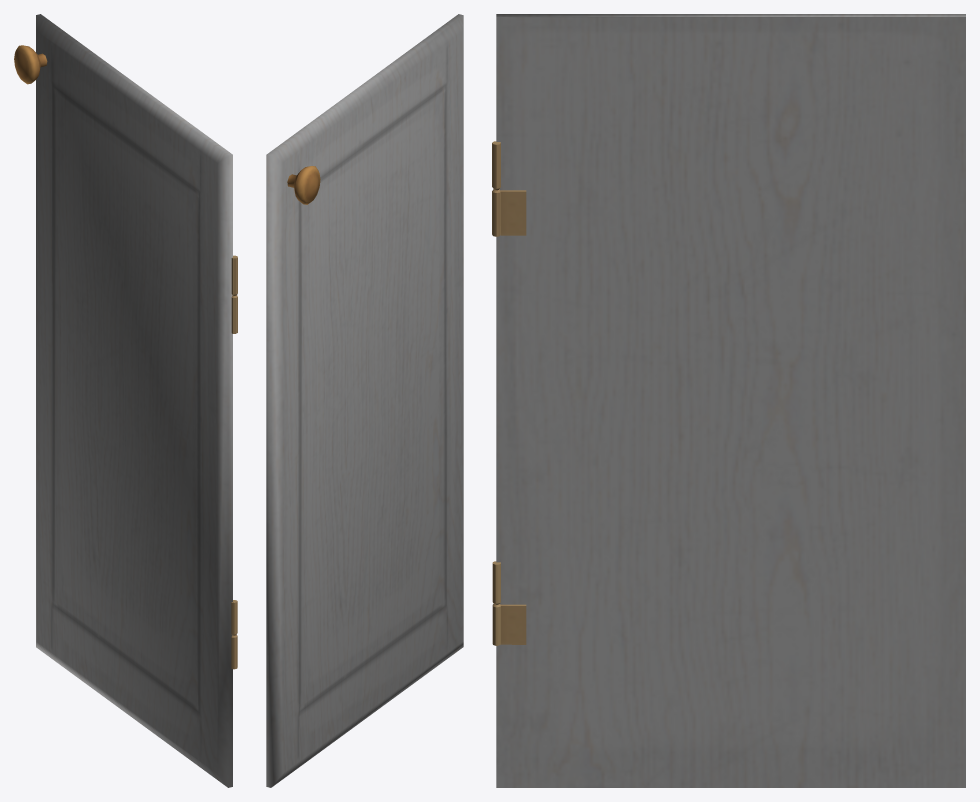
The model's file is SM_KitchenSet_A1_DoorA4.fbx.
The picture shows the model from 3 angles, left to right: view 1: azimuth 30°, elevation 25°; view 2: azimuth 150°, elevation 25°; view 3: azimuth 270°, elevation 25°; orthographic projection. The views are drawn at different scales.
Visible parts, largest first — view 1: SM_KitchenSet_A1_DoorA4; view 2: SM_KitchenSet_A1_DoorA4; view 3: SM_KitchenSet_A1_DoorA4.
Part boxes in pixels (left/top/right/bottom): SM_KitchenSet_A1_DoorA4: left=14, top=14, right=237, bottom=787; SM_KitchenSet_A1_DoorA4: left=266, top=14, right=463, bottom=787; SM_KitchenSet_A1_DoorA4: left=492, top=14, right=965, bottom=787.
Size of the model in its own units: 4.84 by 40.11 by 72.04.
2 materials, 2 textured.
